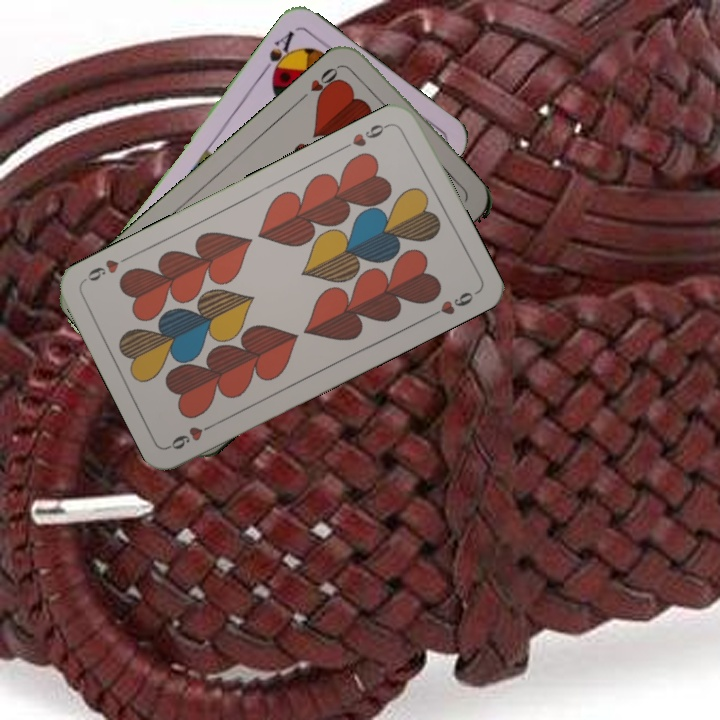H9: (165, 418, 220, 453), (338, 119, 394, 152)
HO: (296, 60, 346, 106)
SA: (257, 26, 298, 83)
